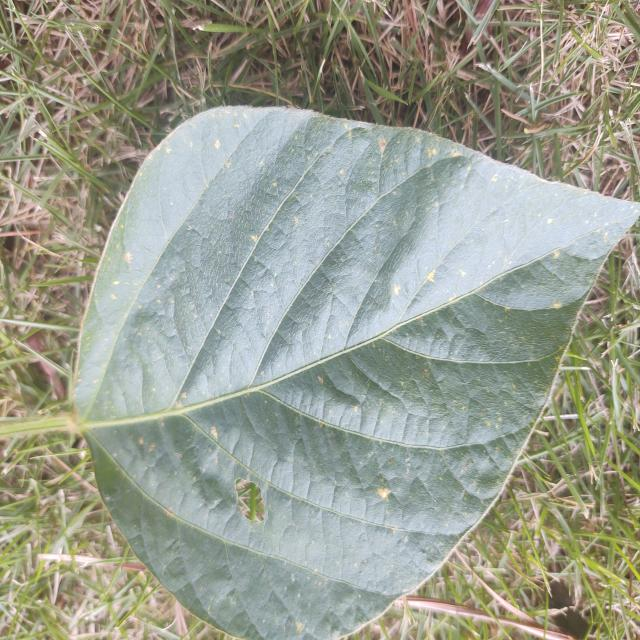Soybean: (69, 105, 640, 640)
downey_mildew: (254, 399, 481, 560), (223, 122, 366, 363), (176, 242, 321, 391), (412, 162, 536, 312), (126, 432, 239, 545), (83, 323, 196, 429), (435, 287, 593, 359), (339, 344, 460, 437), (154, 515, 246, 633), (439, 412, 542, 514), (252, 422, 343, 535), (81, 434, 166, 546), (351, 414, 432, 528), (470, 240, 606, 306), (249, 505, 342, 599), (154, 120, 219, 252), (192, 252, 315, 320), (323, 122, 399, 229), (225, 543, 307, 640), (317, 455, 390, 537), (216, 459, 284, 532), (553, 216, 634, 262), (231, 447, 269, 518)
